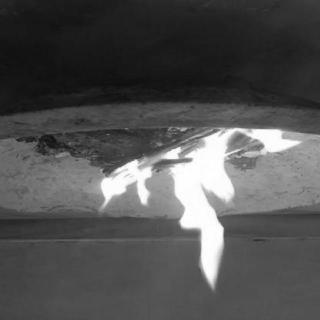Fire: (69, 123, 299, 297)
